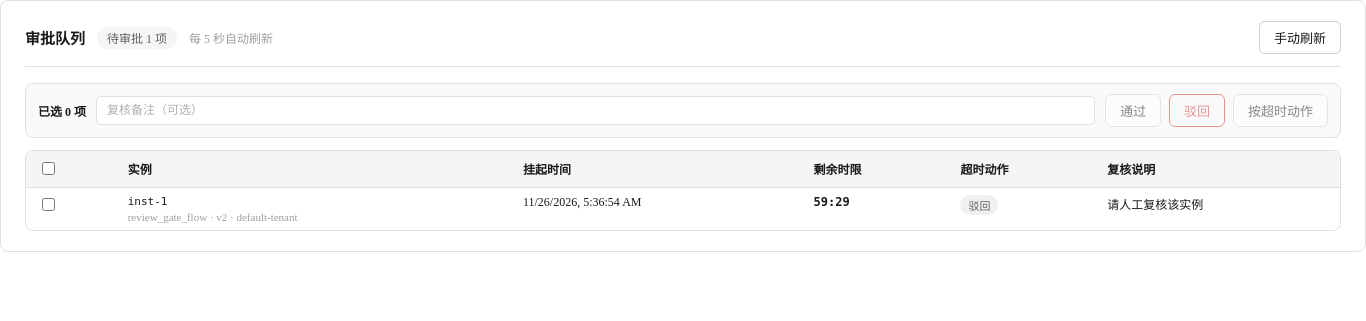
ApprovalQueuePanel 批量复核 › 勾选一行 → 通过：batchReview 参数含 instance_ids/decision/actor，成功汇总展示
Click the checkbox named "选择实例 inst-1" at (48, 204), box [42,198,55,211]
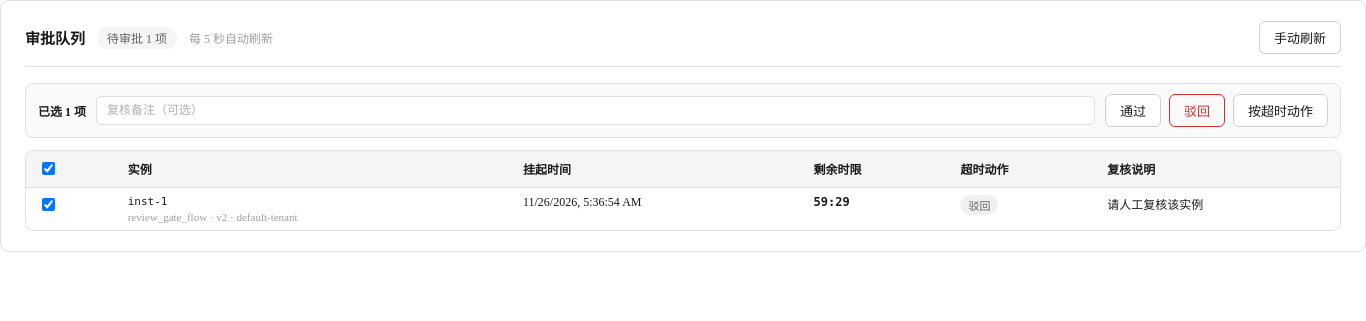
Expected: the text "已选 1 项" is shown, [38,102,86,120]
Click the button "通过" at (1133, 110), box [1105,94,1161,127]
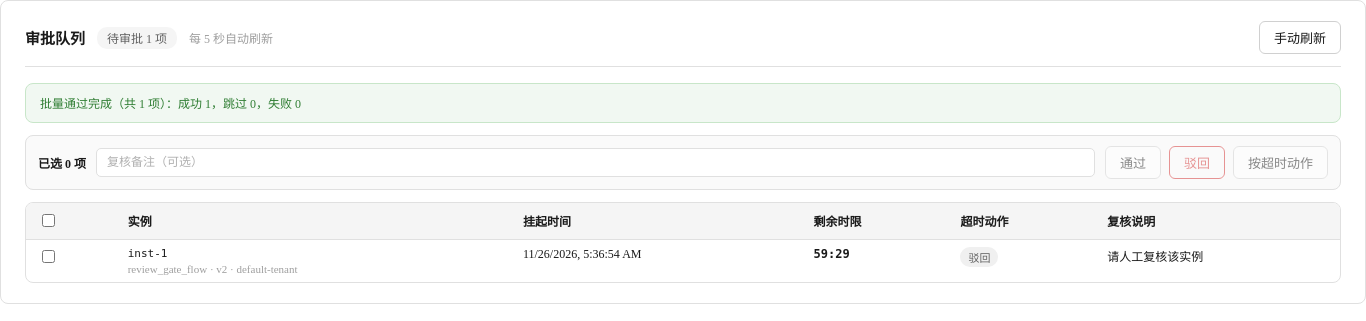
Expected: the text "批量通过完成（共 1 项）：成功 1，跳过 0，失败 0" is shown, [25,83,1341,123]
